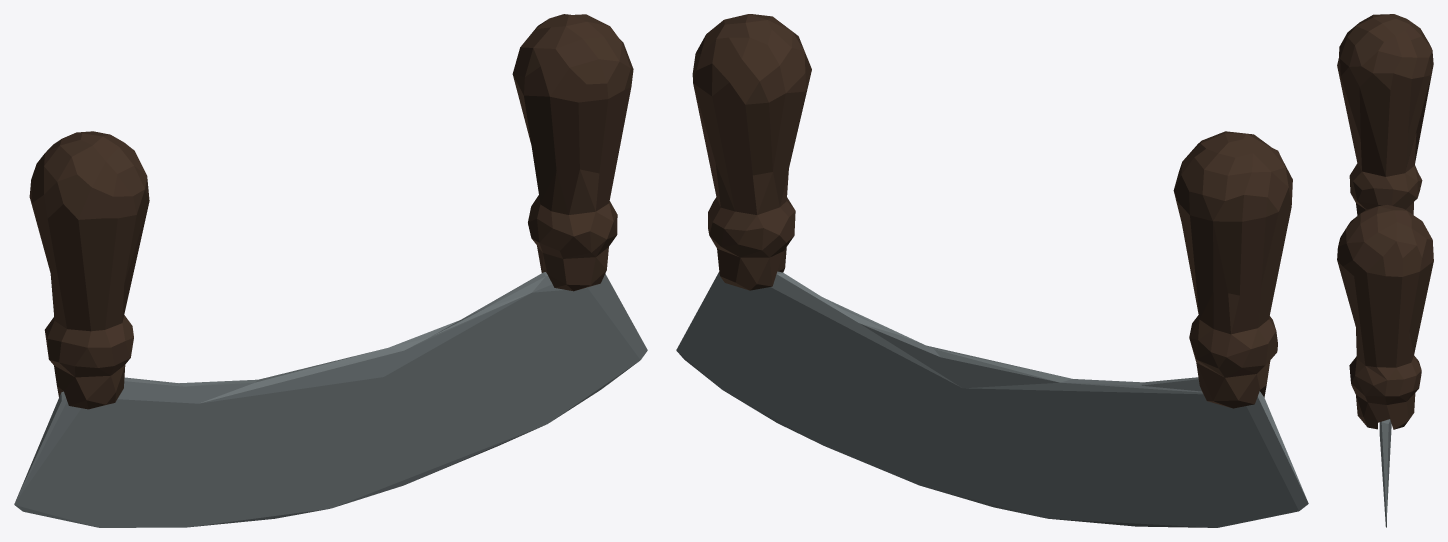
Rendered from ChoppingKnife.fbx.
3 renders of one model, left to right at view 1: azimuth 30°, elevation 25°; view 2: azimuth 150°, elevation 25°; view 3: azimuth 270°, elevation 25°, orthographic. The views are drawn at different scales.
Visible parts, largest first — view 1: ChoppingKnifeLowPoly; view 2: ChoppingKnifeLowPoly; view 3: ChoppingKnifeLowPoly.
Part boxes in pixels (x1,y1,x2,y2): ChoppingKnifeLowPoly: (14,14,647,527); ChoppingKnifeLowPoly: (676,14,1308,527); ChoppingKnifeLowPoly: (1337,14,1433,527).
Bounding box in the file's own units: 27.78 × 18.02 × 4.53.
